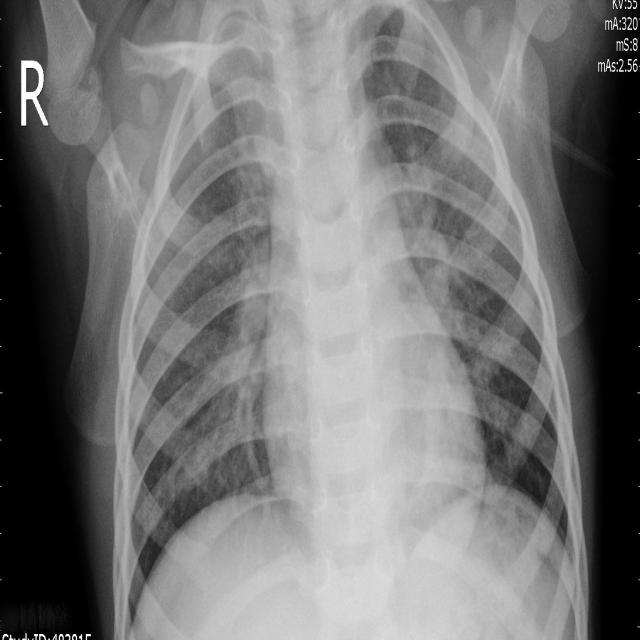high-pneumonia: (210, 10, 274, 237)
low-pneumonia: (185, 246, 273, 488), (396, 157, 471, 349)
